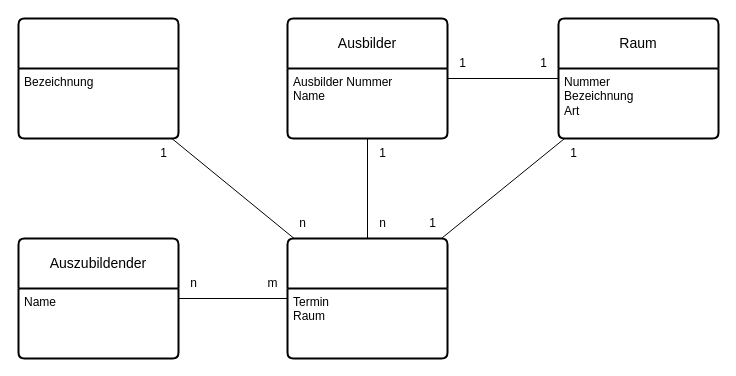
Image size: 736x376. Some labels were removed from this diagram. Here are the shapes that lost their labels. From the top down, the box of each, then its label:
(17, 17, 179, 139): Fach
(286, 237, 448, 359): Schulung
